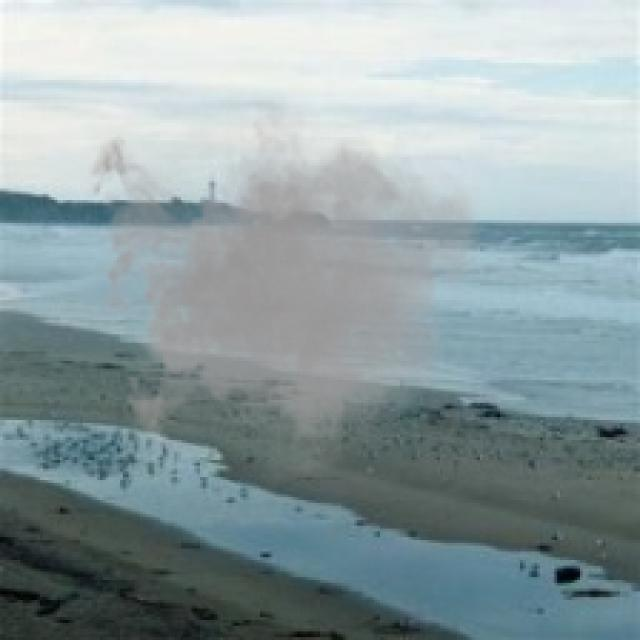smoke: (77, 74, 486, 497)
